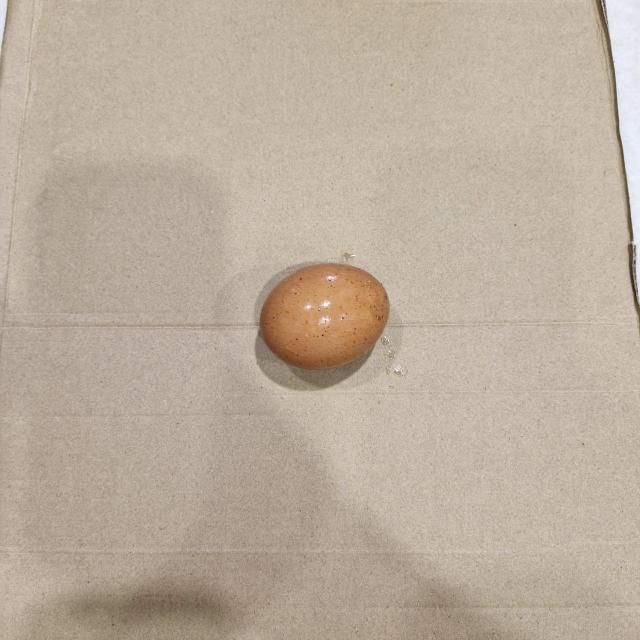food_waste: (258, 258, 398, 387)
